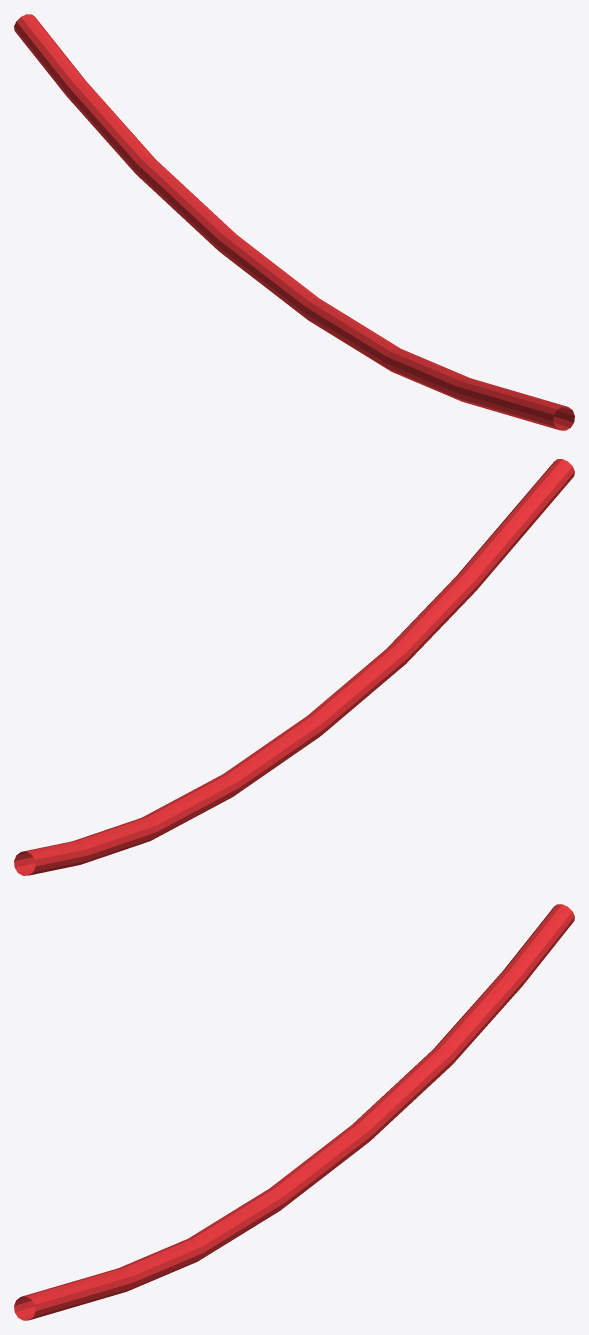
File: cable_hanging.glb
3 renders of one model, top to bottom at view 1: azimuth 30°, elevation 25°; view 2: azimuth 150°, elevation 25°; view 3: azimuth 330°, elevation 25°, orthographic.
Visible parts, largest first — view 1: Plane; view 2: Plane; view 3: Plane.
Part boxes in pixels (<box>): Plane: <box>14,14,574,430</box>; Plane: <box>14,459,574,875</box>; Plane: <box>14,904,574,1320</box>.
Bounding box in the file's own units: 0.04 × 0.17 × 1.74.
